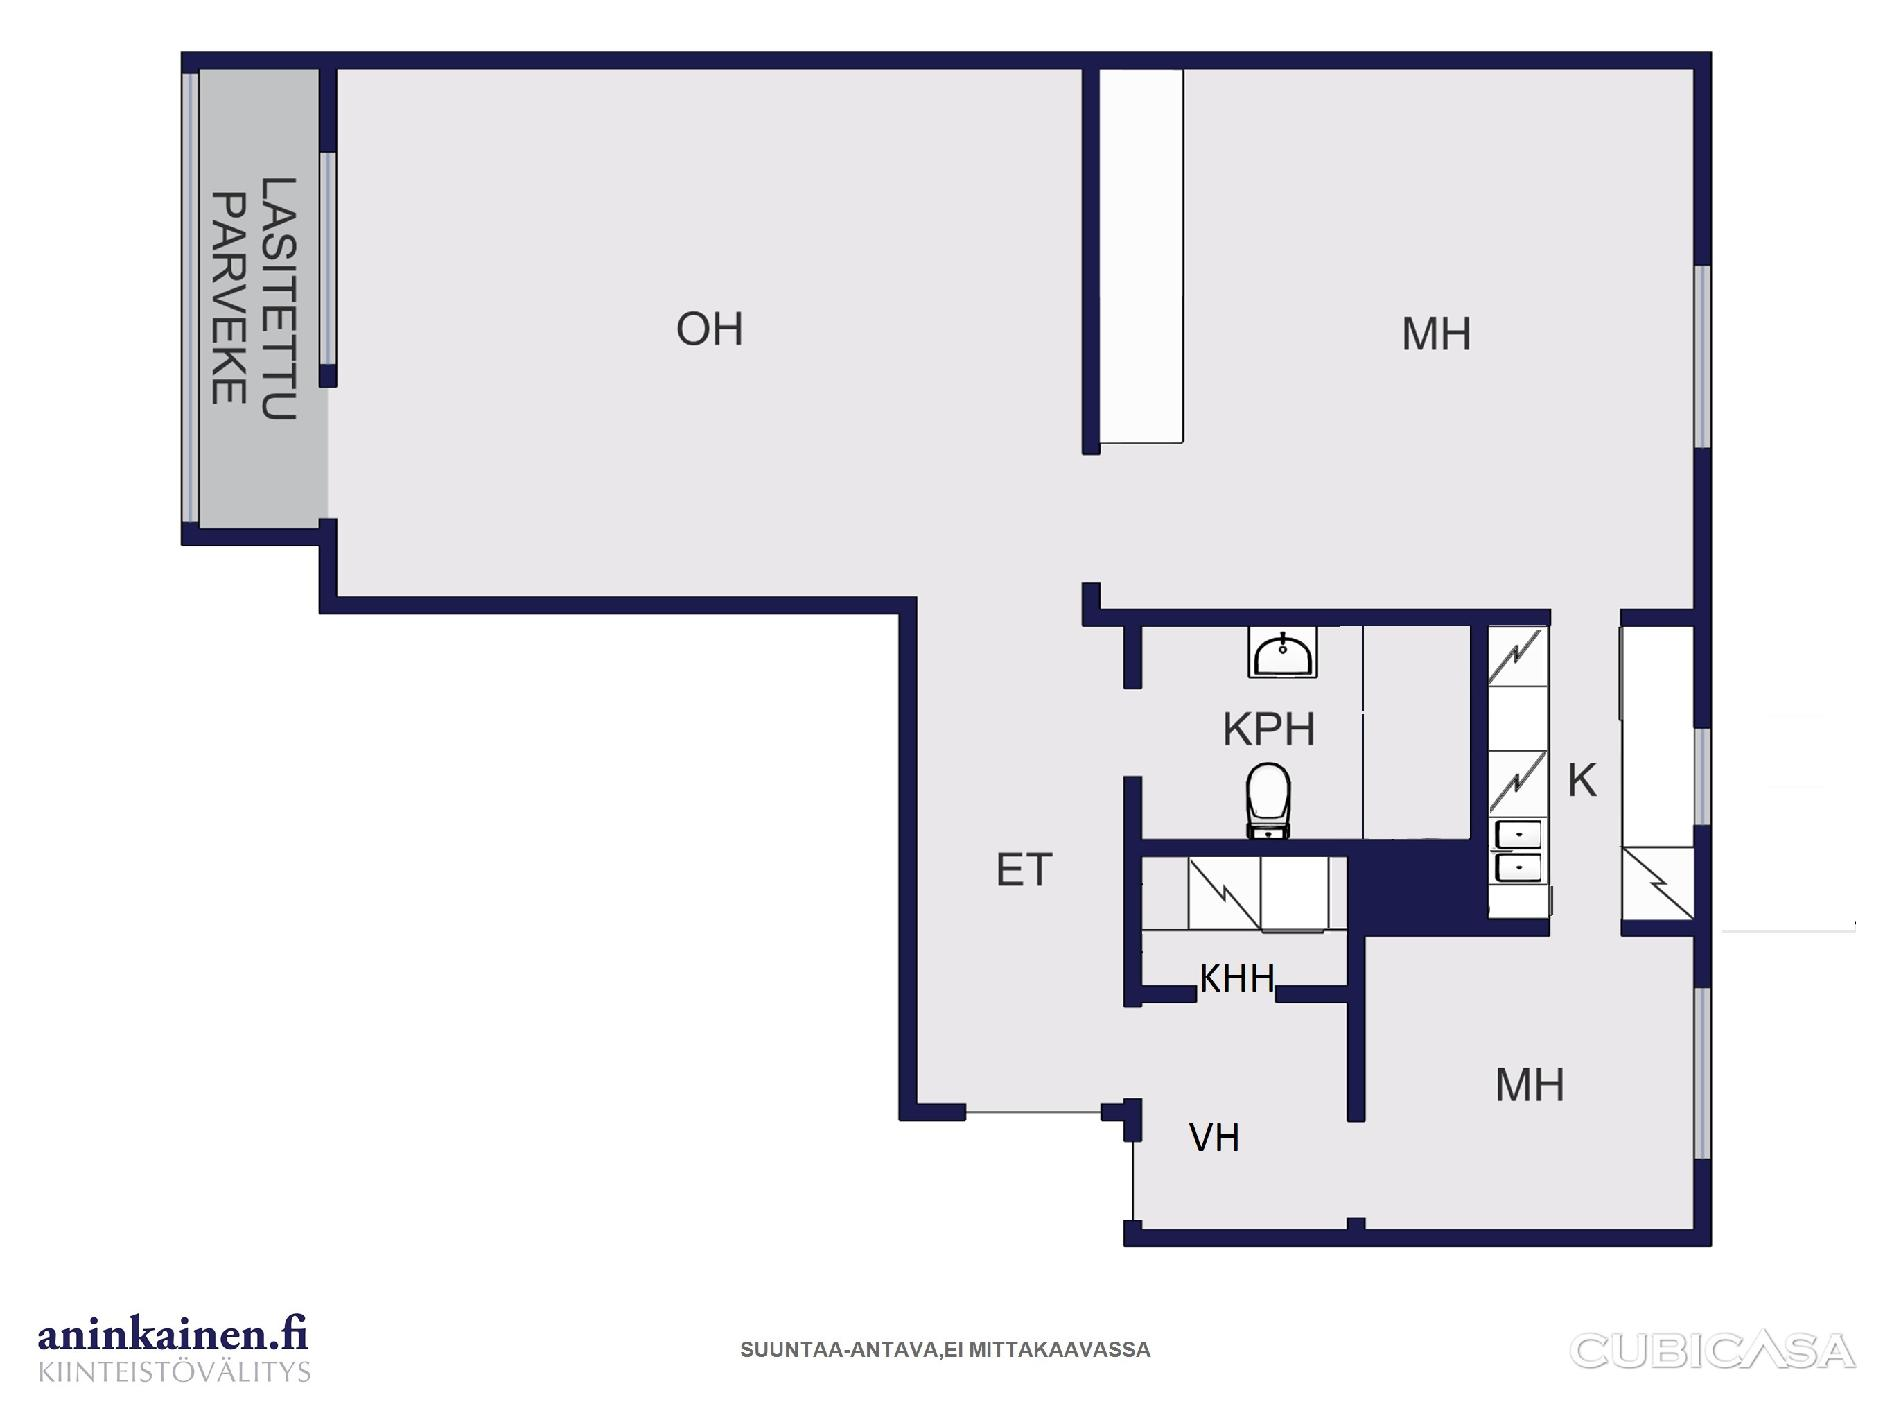window: (180, 72, 200, 521), (319, 154, 338, 362), (1691, 989, 1712, 1162), (1691, 266, 1709, 449), (1694, 728, 1716, 829)
zone: (341, 67, 1085, 589), (1103, 69, 1694, 606), (915, 589, 1129, 1108), (1360, 934, 1694, 1234), (1144, 619, 1472, 835), (1491, 621, 1691, 920), (201, 69, 327, 531), (1135, 1005, 1360, 1231), (1141, 852, 1334, 981)
